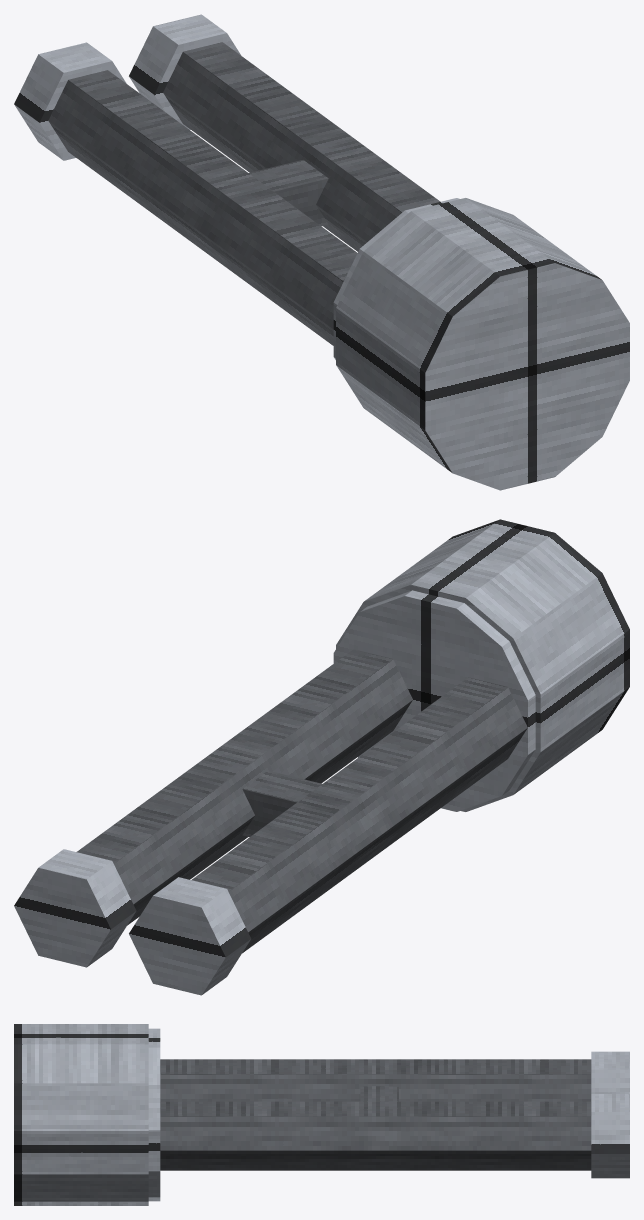
The model's file is twin_barrel_round_kestrel.glb.
3 views of the same model, one above another, from view 1: azimuth 30°, elevation 25°; view 2: azimuth 150°, elevation 25°; view 3: azimuth 270°, elevation 25° (orthographic). The views are drawn at different scales.
Parts seen in each view (by area): view 1: receiver, barrel, barrel.001, muzzle, muzzle.001, brace, receiver_face; view 2: barrel, receiver, barrel.001, receiver_face, muzzle, muzzle.001, brace; view 3: barrel.001, receiver, barrel, muzzle.001, receiver_face, muzzle, brace.
Part boxes in pixels (x1,y1,x2,y2): receiver: (336, 198, 629, 490); barrel: (48, 70, 357, 345); barrel.001: (163, 42, 440, 251); muzzle: (14, 42, 126, 160); muzzle.001: (129, 14, 241, 129); brace: (249, 160, 328, 226); receiver_face: (333, 198, 459, 359); barrel: (191, 677, 527, 953); receiver: (336, 519, 629, 811); barrel.001: (76, 649, 412, 925); receiver_face: (333, 590, 535, 811); muzzle: (129, 877, 251, 995); muzzle.001: (14, 849, 136, 967); brace: (242, 770, 321, 836); barrel.001: (160, 1101, 591, 1170); receiver: (14, 1024, 148, 1205); barrel: (160, 1059, 591, 1101); muzzle.001: (591, 1094, 629, 1178); receiver_face: (148, 1028, 160, 1201); muzzle: (591, 1051, 629, 1093); brace: (360, 1086, 398, 1101).
Size of the model in its own units: 9.6 by 9.27 by 32.
3 materials, 3 textured.
